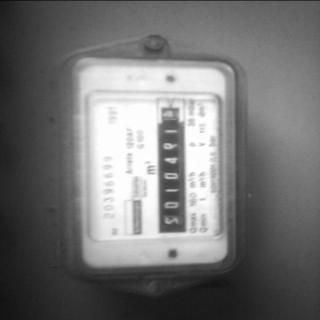1: (164, 201, 181, 211), (163, 170, 179, 180)
2: (164, 186, 181, 195), (164, 128, 179, 134)
3: (164, 215, 181, 225)
5: (163, 109, 178, 120), (164, 156, 179, 164)
:: (163, 142, 179, 151)
